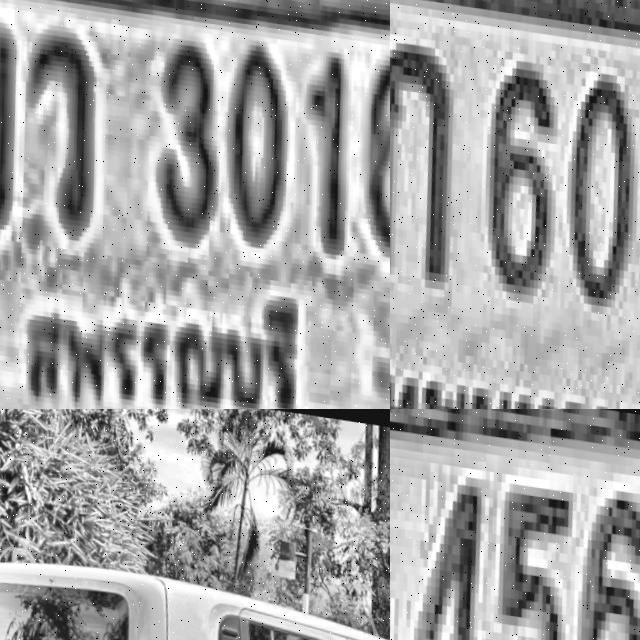license-plate: (0, 0, 390, 409), (390, 0, 640, 409), (390, 409, 640, 640)
